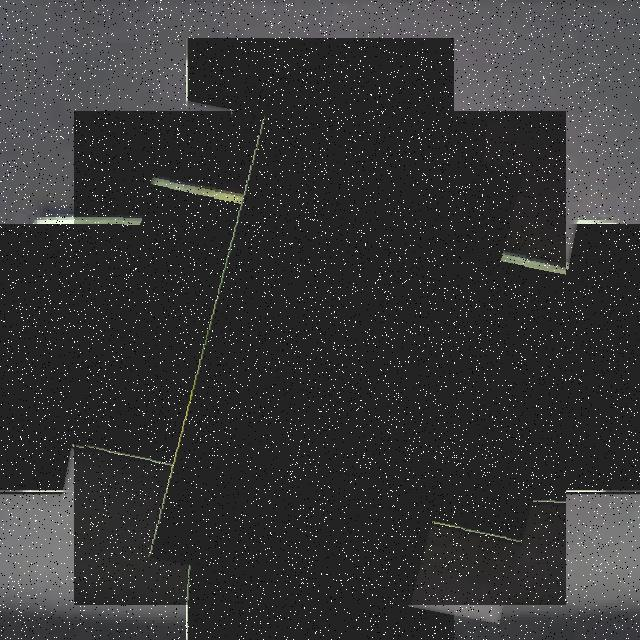dua puluh ribu rupiah: (74, 111, 566, 605)
